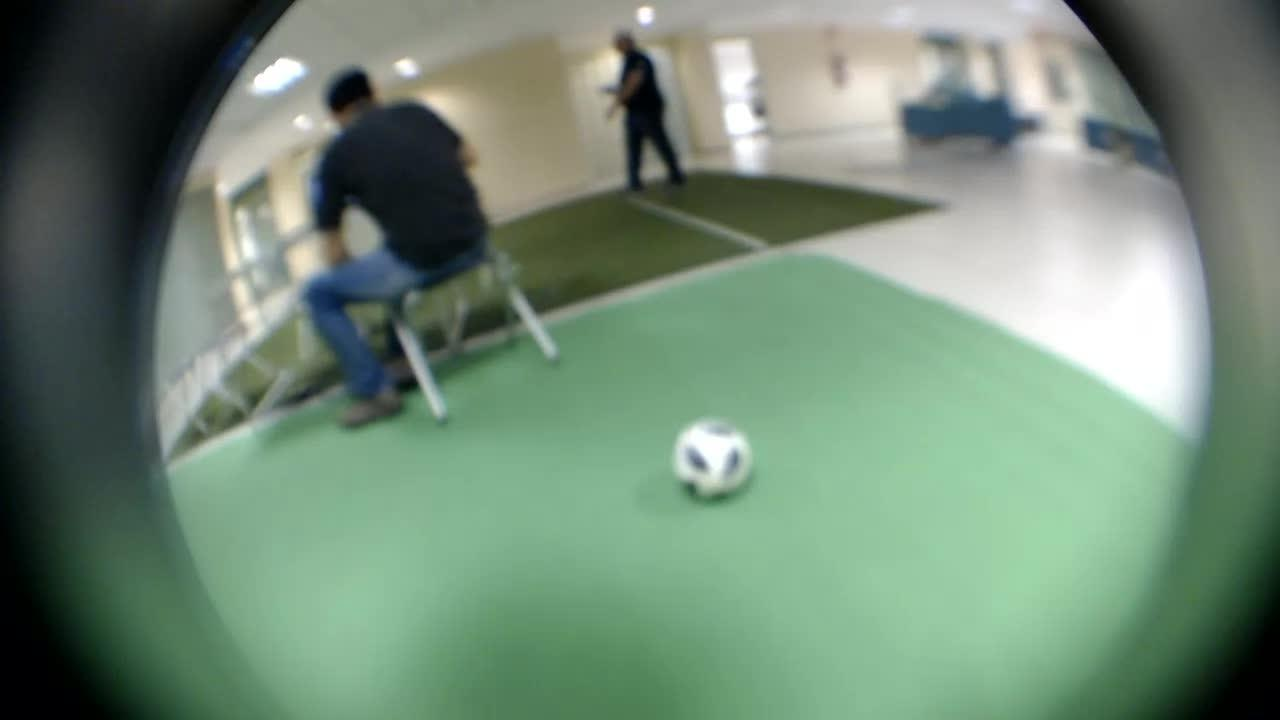ball: (660, 406, 762, 505)
